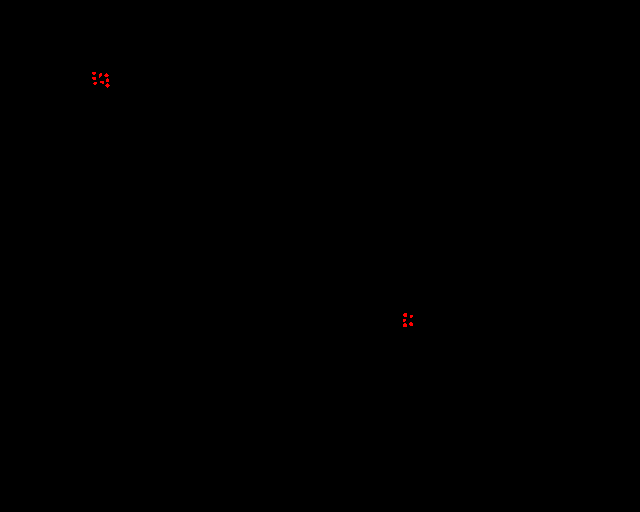Target: (105, 83, 110, 88), (104, 73, 109, 77), (403, 313, 407, 317), (409, 322, 413, 326), (403, 323, 407, 327), (99, 73, 102, 78), (92, 72, 96, 75), (92, 77, 96, 80), (106, 78, 109, 82), (100, 81, 104, 84), (93, 82, 97, 85), (410, 315, 413, 318), (403, 319, 406, 322)
